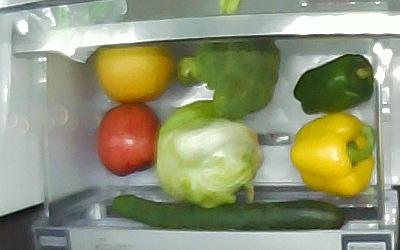apple: (97, 102, 162, 176)
broccoli: (179, 38, 281, 117)
cucumber: (113, 195, 345, 231)
grapefruit: (95, 42, 176, 102)
lettuce: (156, 100, 264, 207)
paprika: (291, 112, 376, 197), (292, 53, 374, 115)
